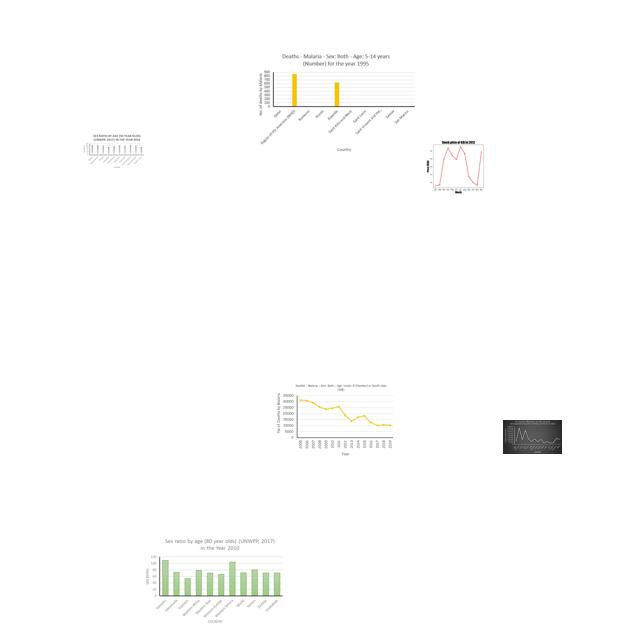Graph: (255, 51, 417, 154), (141, 536, 284, 625), (275, 382, 395, 458), (420, 138, 495, 194), (82, 133, 145, 169), (503, 420, 562, 454)
